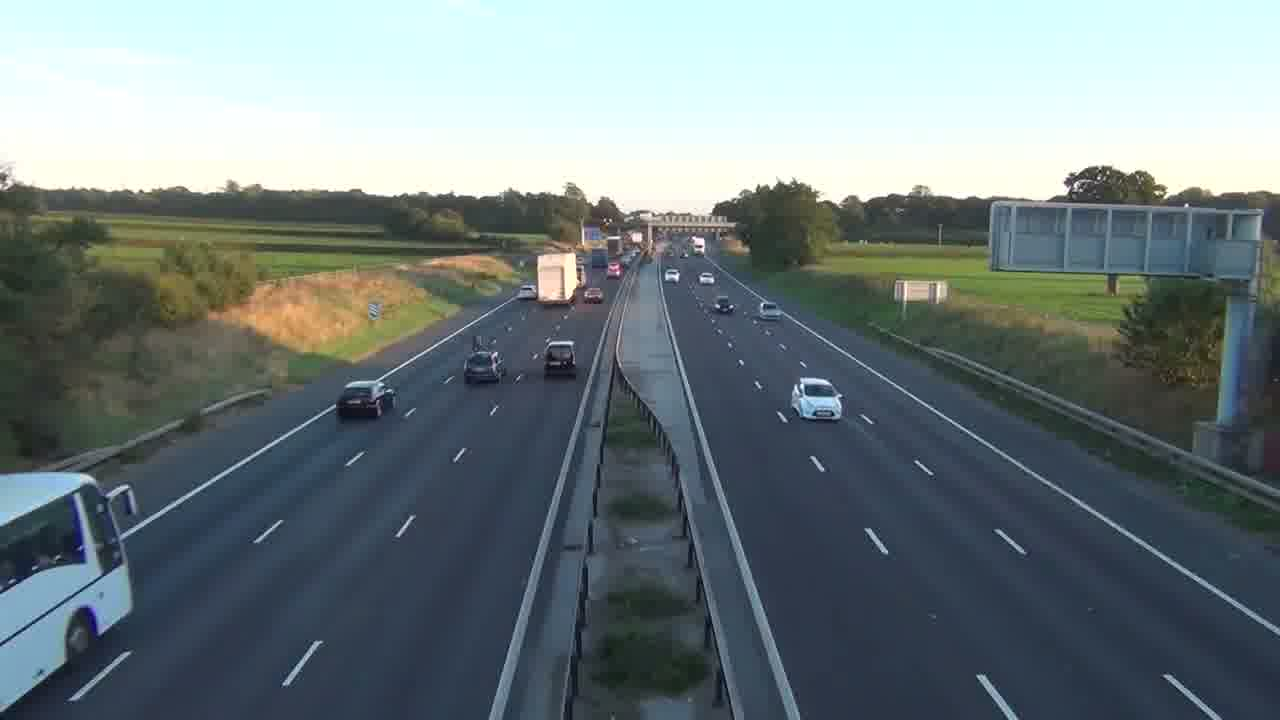bus: (0, 471, 139, 709)
car: (790, 376, 844, 422), (336, 379, 388, 420), (463, 350, 503, 385), (543, 339, 576, 377), (665, 267, 680, 282)
truck: (535, 254, 580, 306)
